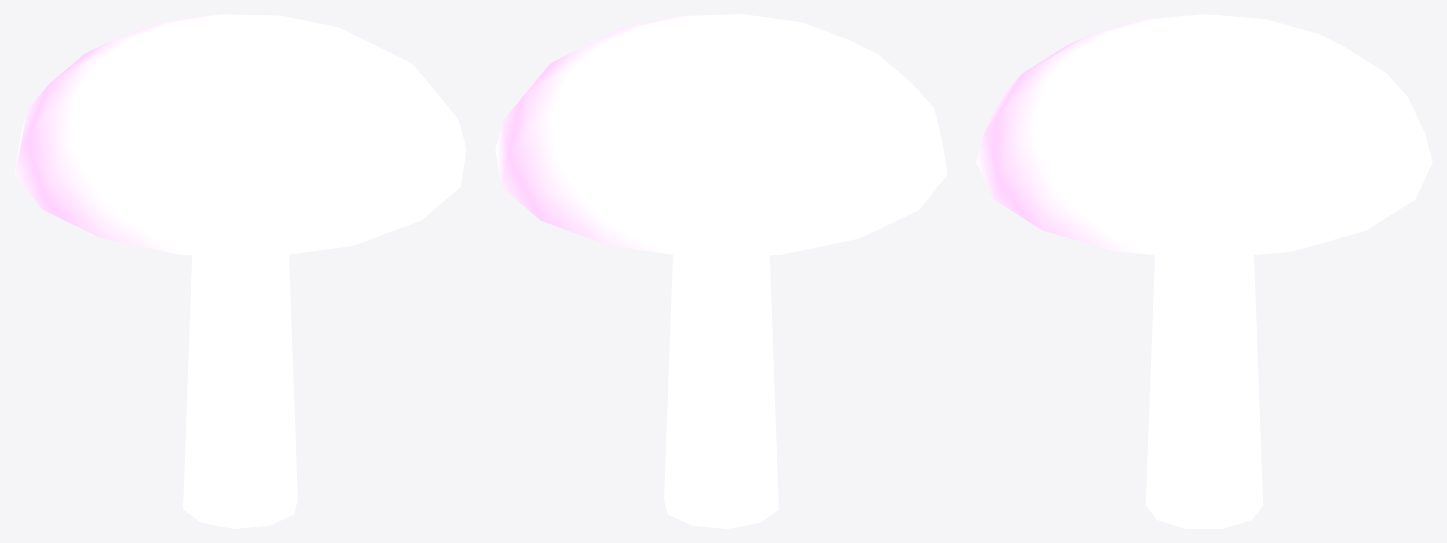
File: glow_mushroom.glb
The picture shows the model from 3 angles, left to right: view 1: azimuth 30°, elevation 25°; view 2: azimuth 150°, elevation 25°; view 3: azimuth 270°, elevation 25°; orthographic projection.
Visible parts, largest first — view 1: glow_mushroom; view 2: glow_mushroom; view 3: glow_mushroom.
Boxes of the visible parts, left/top/right/bottom form: glow_mushroom: left=14, top=14, right=466, bottom=528; glow_mushroom: left=495, top=14, right=947, bottom=528; glow_mushroom: left=976, top=14, right=1432, bottom=528.
Size of the model in its own units: 0.7 by 0.7725 by 0.7.
